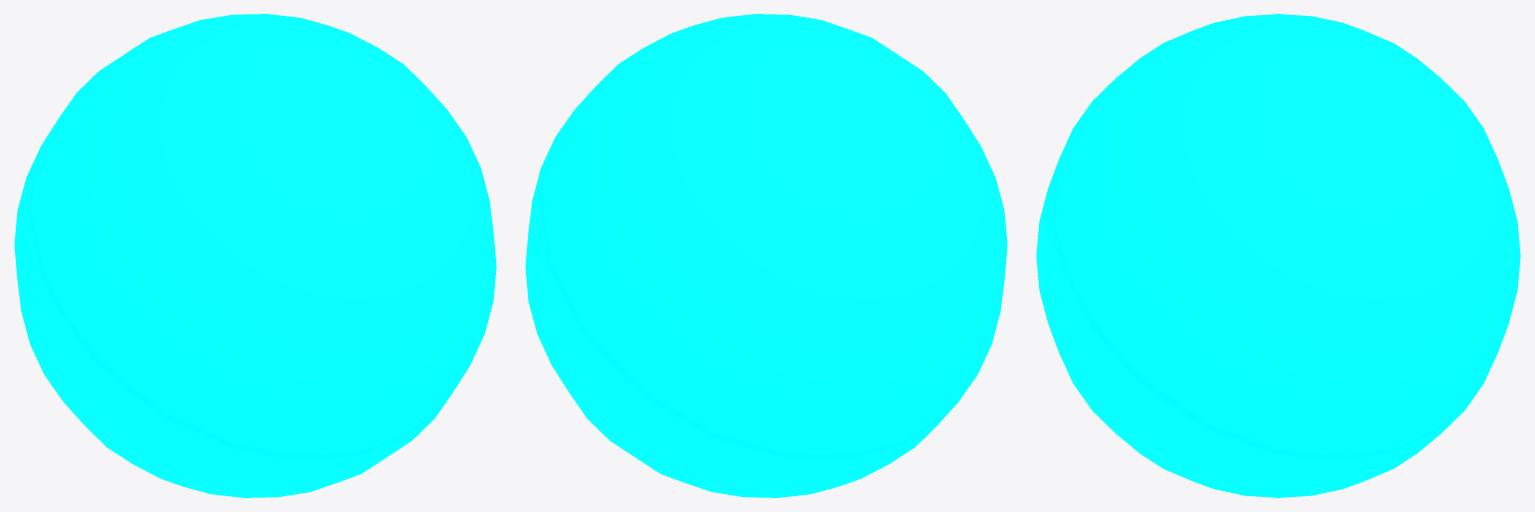
File: Ball.fbx
3 renders of one model, left to right at view 1: azimuth 30°, elevation 25°; view 2: azimuth 150°, elevation 25°; view 3: azimuth 270°, elevation 25°, orthographic.
Visible parts, largest first — view 1: outer__shell; view 2: outer__shell; view 3: outer__shell.
Part boxes in pixels (box(x1,y1,x2,y2)): outer__shell: box(14, 14, 496, 497); outer__shell: box(525, 14, 1007, 497); outer__shell: box(1036, 14, 1520, 497).
Size of the model in its own units: 4.99 by 4.99 by 4.99.
